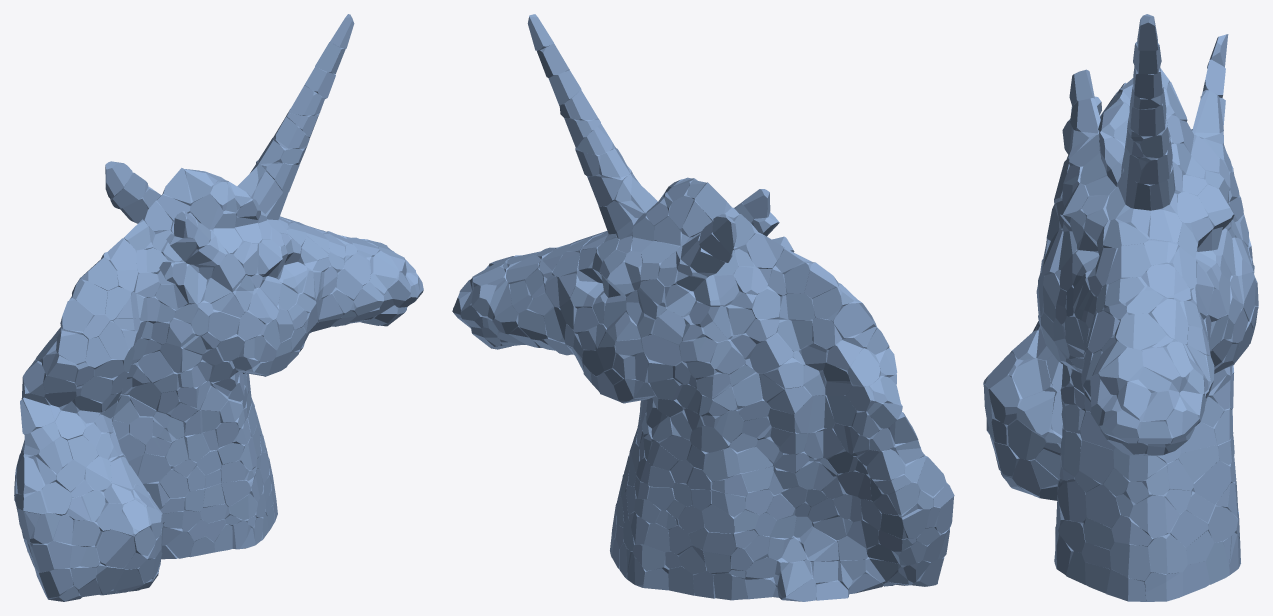
Rendered from 55932_clean_voromesh.glb.
The picture shows the model from 3 angles, left to right: view 1: azimuth 30°, elevation 25°; view 2: azimuth 150°, elevation 25°; view 3: azimuth 270°, elevation 25°; orthographic projection. The views are drawn at different scales.
Parts seen in each view (by area): view 1: 55932_clean_voromesh.obj; view 2: 55932_clean_voromesh.obj; view 3: 55932_clean_voromesh.obj.
Boxes of the visible parts, left/top/right/bottom form: 55932_clean_voromesh.obj: left=14, top=14, right=423, bottom=601; 55932_clean_voromesh.obj: left=452, top=14, right=954, bottom=601; 55932_clean_voromesh.obj: left=983, top=14, right=1258, bottom=601.
Bounding box in the file's own units: 1.45 × 1.55 × 0.6041.
